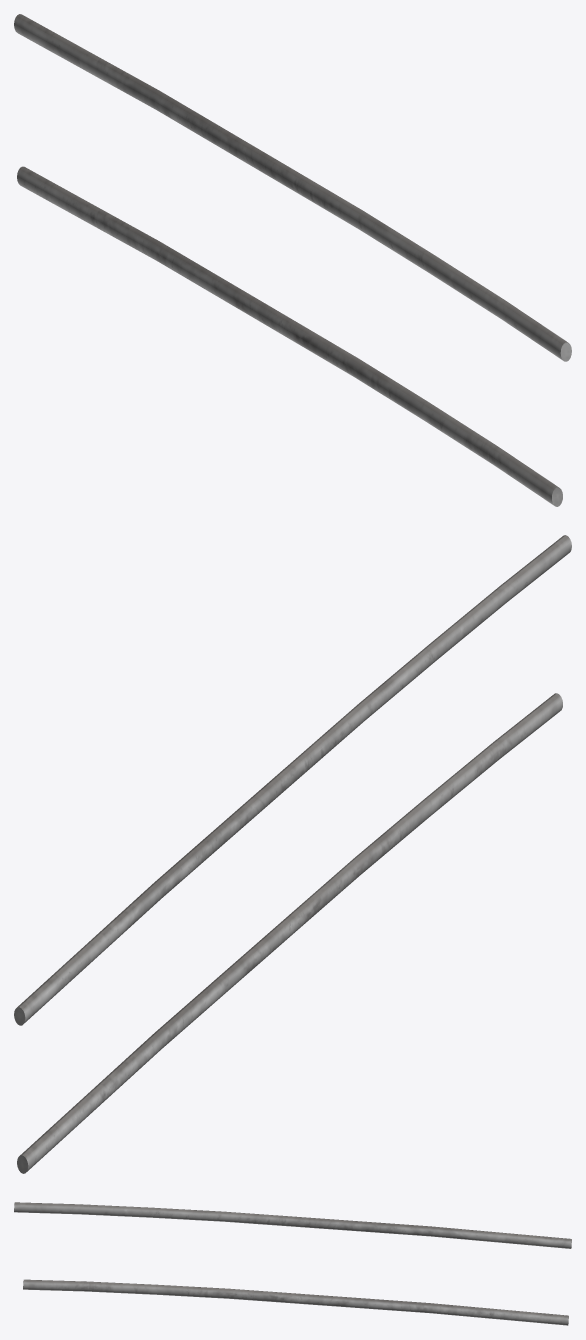
Rendered from SM_Tribines_Constructions_I.fbx.
3 views of the same model, one above another, from view 1: azimuth 30°, elevation 25°; view 2: azimuth 150°, elevation 25°; view 3: azimuth 270°, elevation 25° (orthographic). The views are drawn at different scales.
Parts seen in each view (by area): view 1: SM_Tribines_Constructions_I_LOD0; view 2: SM_Tribines_Constructions_I_LOD0; view 3: SM_Tribines_Constructions_I_LOD0.
Boxes of the visible parts, x1,y1,x2,y2 form: SM_Tribines_Constructions_I_LOD0: [14, 14, 571, 506]; SM_Tribines_Constructions_I_LOD0: [14, 535, 571, 1173]; SM_Tribines_Constructions_I_LOD0: [14, 1202, 571, 1325].
Bounding box in the file's own units: 6.87 × 575 × 140.
Materials: 1 (1 with a texture image).
